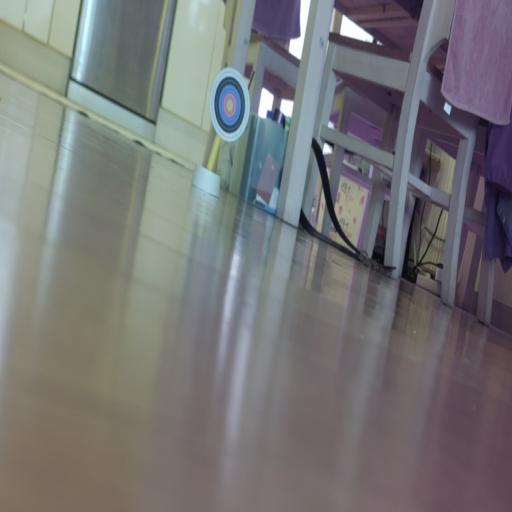target: (210, 68, 250, 142)
